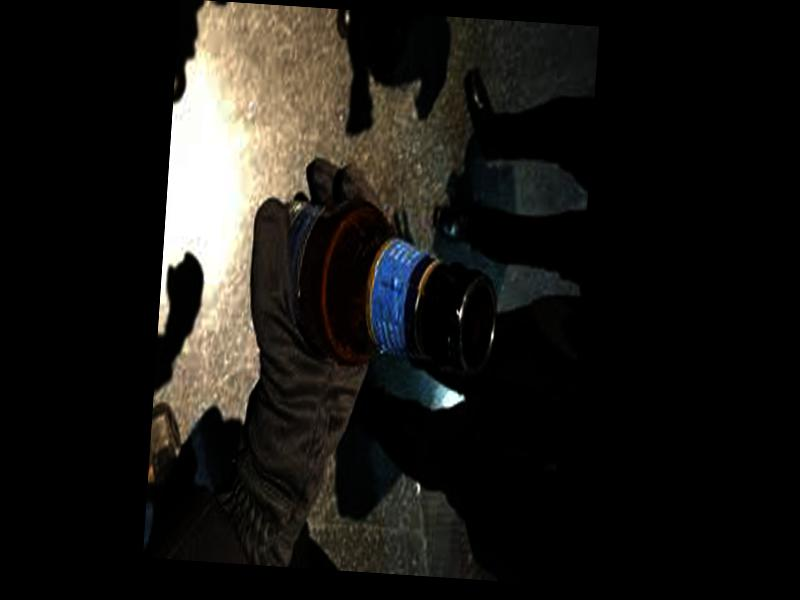Beer: (259, 186, 504, 380)
